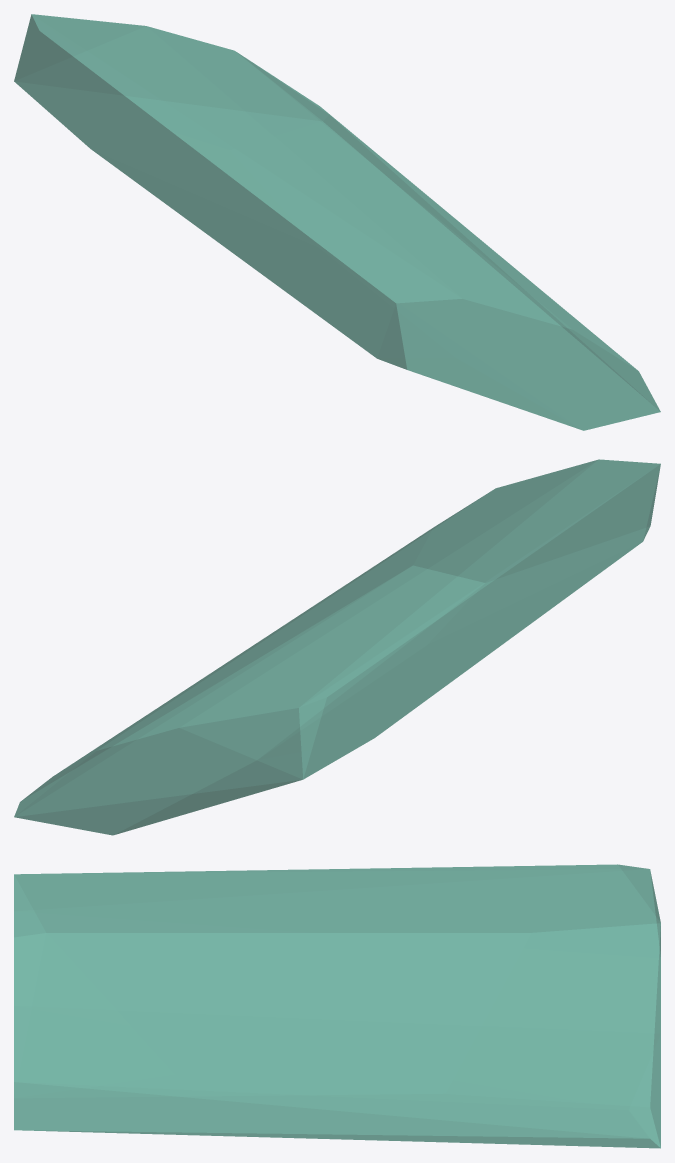
3 views of the same model, one above another, from view 1: azimuth 30°, elevation 25°; view 2: azimuth 150°, elevation 25°; view 3: azimuth 270°, elevation 25° (orthographic). The views are drawn at different scales.
Visible parts, largest first — view 1: Shape_IndexedFaceSet.033_Shape_IndexedFaceSet.13105; view 2: Shape_IndexedFaceSet.033_Shape_IndexedFaceSet.13105; view 3: Shape_IndexedFaceSet.033_Shape_IndexedFaceSet.13105.
Boxes of the visible parts, box(x1,y1,x2,y2) form: Shape_IndexedFaceSet.033_Shape_IndexedFaceSet.13105: box(14, 14, 660, 430); Shape_IndexedFaceSet.033_Shape_IndexedFaceSet.13105: box(14, 459, 660, 835); Shape_IndexedFaceSet.033_Shape_IndexedFaceSet.13105: box(14, 864, 660, 1148).
Size of the model in its own units: 0.0635 by 0.0363 by 0.1361.
